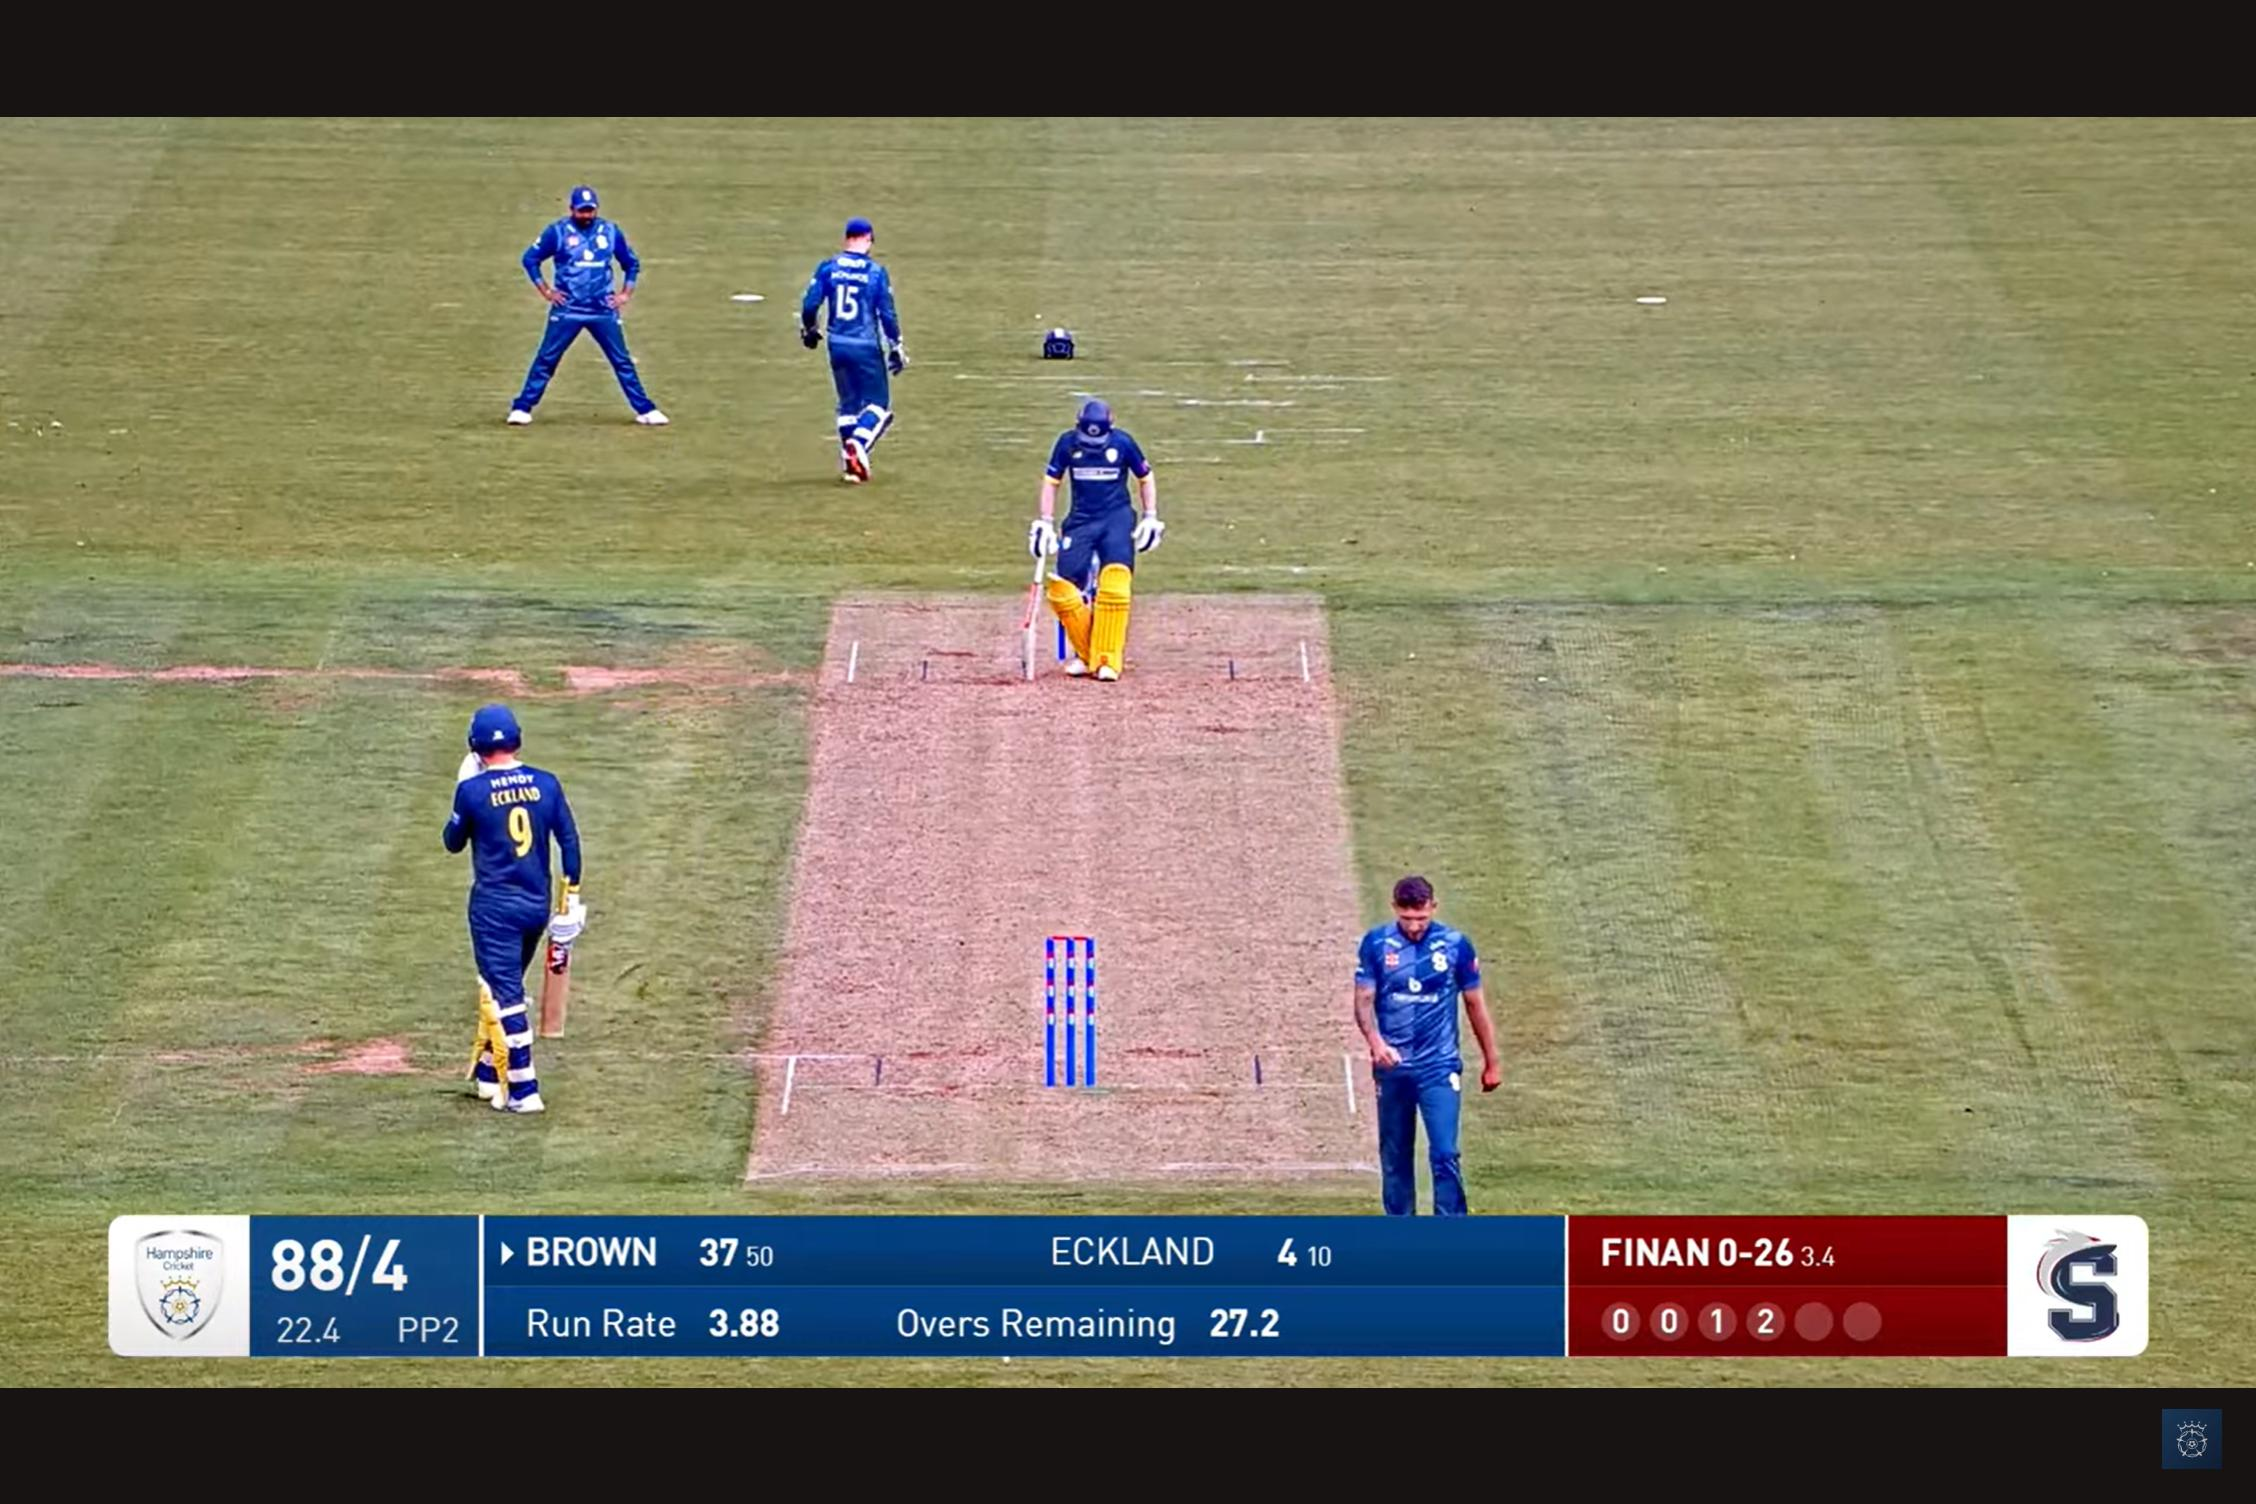batsman: (997, 386, 1192, 690)
bowler walking back: (1301, 853, 1539, 1204)
non striker: (421, 676, 616, 1120)
stumps: (1010, 913, 1115, 1096)
wicket keeper: (812, 201, 948, 505)
